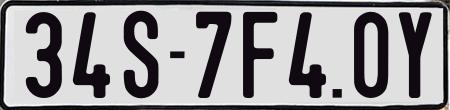0: (351, 11, 388, 98)
3: (24, 9, 65, 101)
4: (289, 11, 331, 103), (71, 11, 108, 98)
7: (196, 12, 237, 99)
F: (242, 9, 277, 101)
S: (122, 8, 157, 100)
Y: (398, 11, 433, 103)
